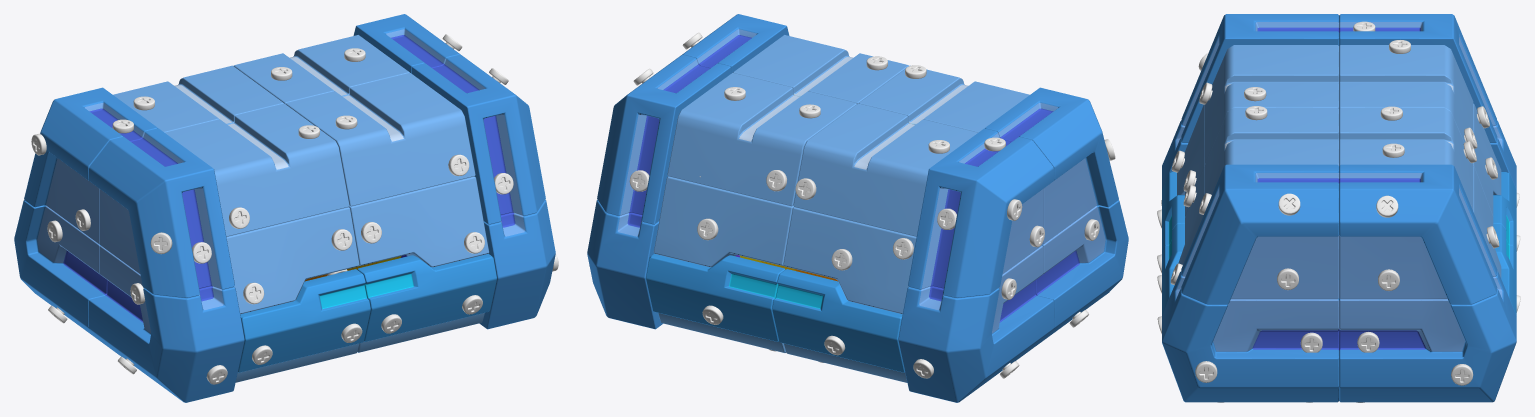
Rendered from lvl_65.fbx.
3 renders of one model, left to right at view 1: azimuth 30°, elevation 25°; view 2: azimuth 150°, elevation 25°; view 3: azimuth 270°, elevation 25°, orthographic. The views are drawn at different scales.
Parts seen in each view (by area): view 1: Cube_L3, Cube_L1_3, Cube_L1_2, Cube_L3_3, Cube_L3_4, Cube_L3_1, Cube_L1_1, Cube_L1, Cube_L2_1, Cube_L2, Cube_L3_2, Cube_L3_7 (+5 smaller); view 2: Cube_L3_1, Cube_L1_5, Cube_L1_4, Cube_L3_2, Cube_L3_5, Cube_L3, Cube_L1_7, Cube_L2_3, Cube_L1_6, Cube_L2_2, Cube_L3_3, Cube_L3_6 (+5 smaller); view 3: Cube_L3_4, Cube_L3_5, Cube_L3_7, Cube_L3_6, Cube_L1_2, Cube_L1_4, Cube_L1_3, Cube_L1_5, Cube_L3, Cube_L3_1, Cube_L1_6, Cube_L2_2 (+16 smaller).
Part boxes in pixels (left/top/right/bottom): Cube_L3: left=89, top=128, right=234, bottom=298; Cube_L1_3: left=286, top=73, right=475, bottom=206; Cube_L1_2: left=165, top=103, right=349, bottom=236; Cube_L3_3: left=89, top=246, right=244, bottom=402; Cube_L3_4: left=412, top=55, right=545, bottom=224; Cube_L3_1: left=24, top=87, right=157, bottom=244; Cube_L1_1: left=349, top=176, right=489, bottom=267; Cube_L1: left=226, top=207, right=359, bottom=314; Cube_L2_1: left=357, top=254, right=496, bottom=341; Cube_L2: left=238, top=269, right=370, bottom=372; Cube_L3_2: left=14, top=200, right=107, bottom=346; Cube_L3_7: left=479, top=200, right=555, bottom=329; Cube_L3_1: left=908, top=128, right=1053, bottom=298; Cube_L1_5: left=667, top=73, right=856, bottom=206; Cube_L1_4: left=793, top=103, right=977, bottom=236; Cube_L3_2: left=898, top=246, right=1053, bottom=402; Cube_L3_5: left=597, top=55, right=730, bottom=224; Cube_L3: left=985, top=87, right=1118, bottom=244; Cube_L1_7: left=653, top=176, right=793, bottom=267; Cube_L2_3: left=646, top=254, right=785, bottom=341; Cube_L1_6: left=783, top=207, right=916, bottom=314; Cube_L2_2: left=772, top=269, right=904, bottom=372; Cube_L3_3: left=1035, top=200, right=1128, bottom=346; Cube_L3_6: left=587, top=199, right=662, bottom=329; Cube_L3_4: left=1181, top=164, right=1339, bottom=304; Cube_L3_5: left=1339, top=164, right=1497, bottom=304; Cube_L3_7: left=1162, top=271, right=1339, bottom=402; Cube_L3_6: left=1339, top=271, right=1516, bottom=402; Cube_L1_2: left=1205, top=45, right=1339, bottom=163; Cube_L1_4: left=1339, top=45, right=1473, bottom=163; Cube_L1_3: left=1205, top=108, right=1339, bottom=194; Cube_L1_5: left=1339, top=108, right=1473, bottom=210; Cube_L3: left=1181, top=14, right=1339, bottom=142; Cube_L3_1: left=1339, top=14, right=1497, bottom=142; Cube_L1_6: left=1473, top=103, right=1501, bottom=216; Cube_L2_2: left=1493, top=172, right=1516, bottom=252.
Bounding box in the file's own units: 5.91 × 3.01 × 4.44.
